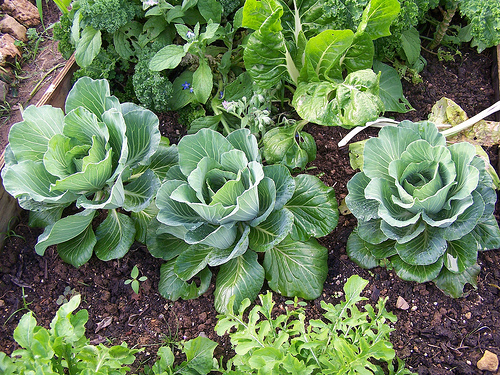cabbage: (147, 128, 340, 315), (4, 74, 160, 265), (346, 120, 499, 298)
